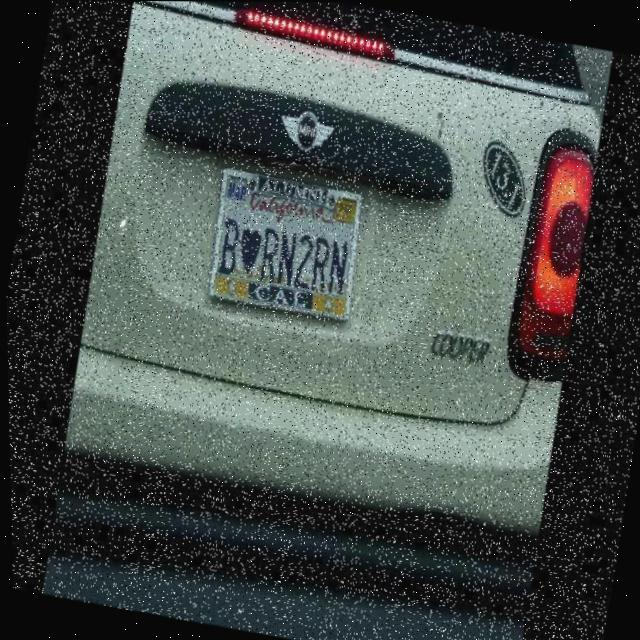LicensePlate: (187, 148, 385, 358)
